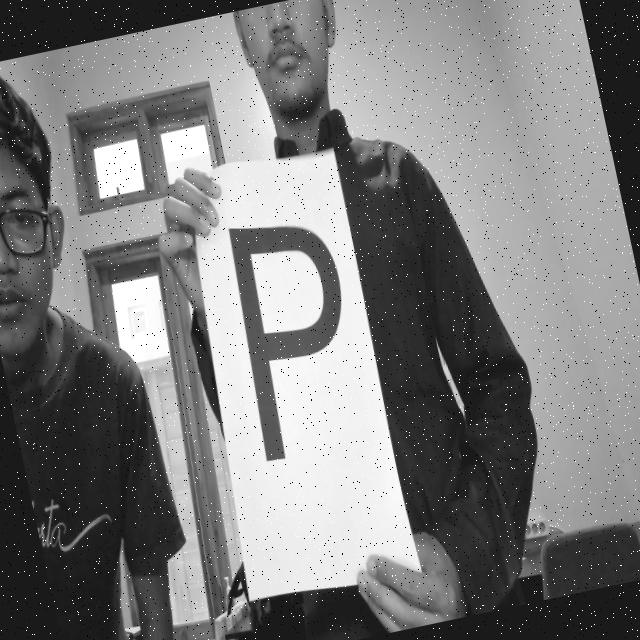p: (207, 186, 383, 490)
